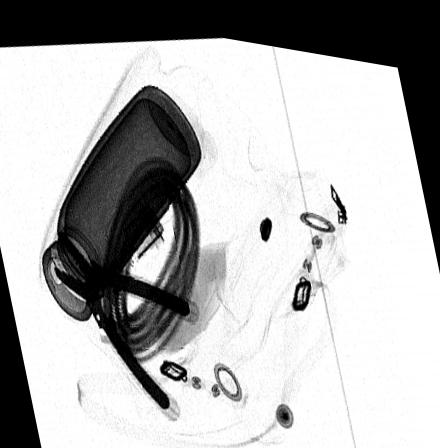Pliers: (50, 224, 194, 406)
